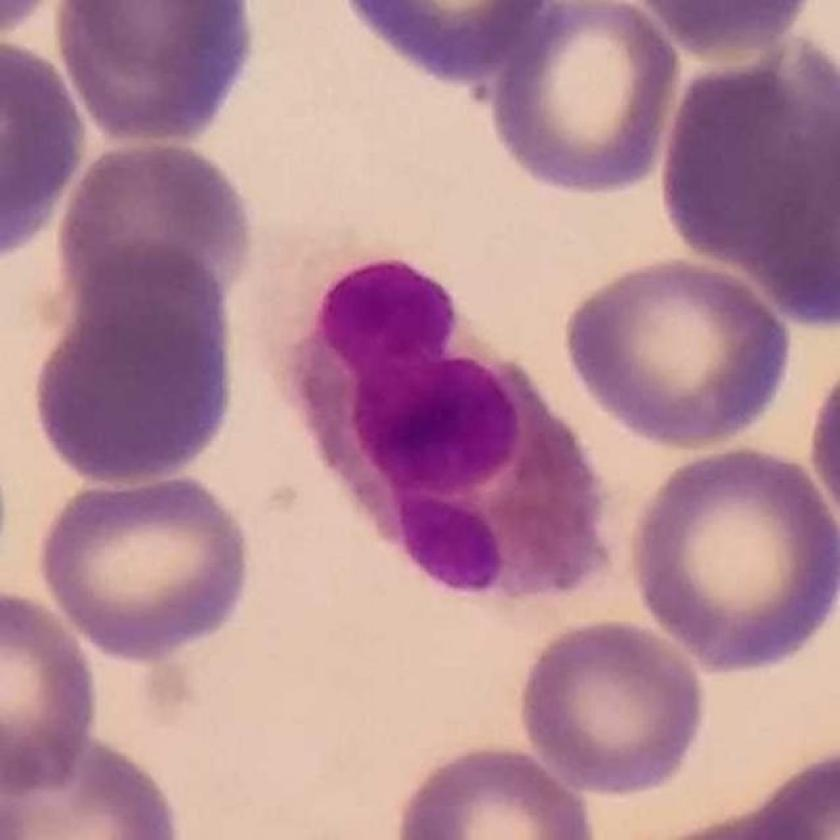eosinophil: (287, 256, 617, 604)
